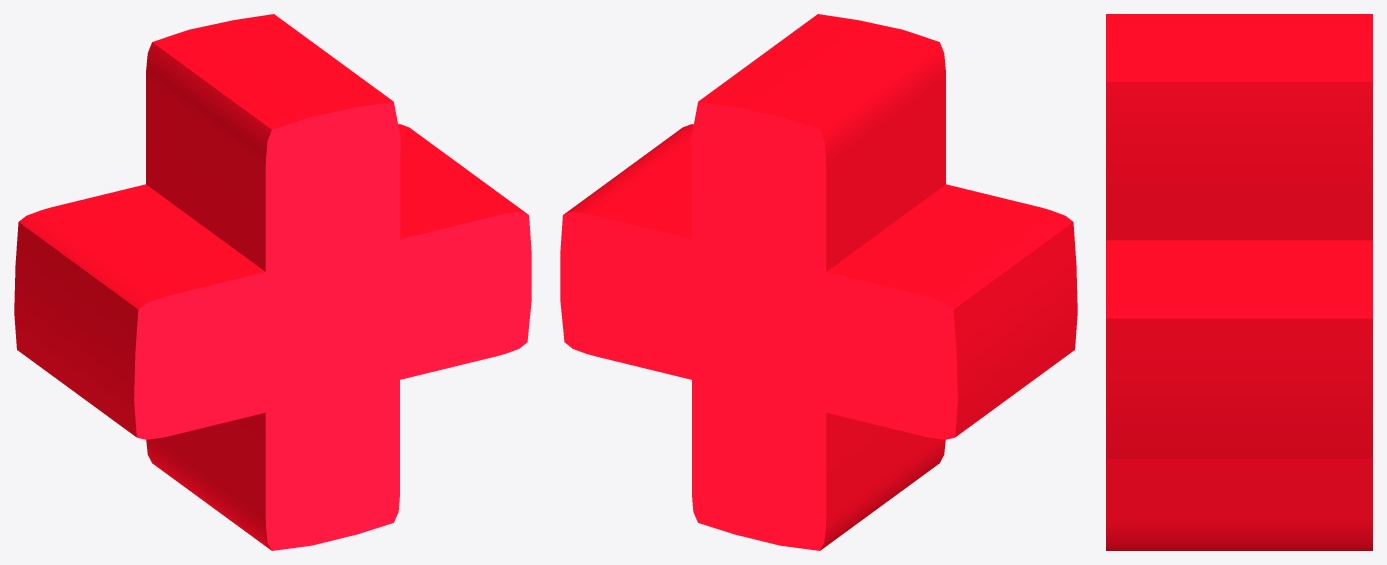
File: ba8648f6-47fd-4925-addd-78d3ddd67ba8.glb
3 renders of one model, left to right at view 1: azimuth 30°, elevation 25°; view 2: azimuth 150°, elevation 25°; view 3: azimuth 270°, elevation 25°, orthographic. The views are drawn at different scales.
Parts seen in each view (by area): view 1: +_Zyzol_Red; view 2: +_Zyzol_Red; view 3: +_Zyzol_Red.
Part boxes in pixels (x1,y1,x2,y2): +_Zyzol_Red: (14,14,531,550); +_Zyzol_Red: (560,14,1077,550); +_Zyzol_Red: (1106,14,1372,550).
Size of what is drawn, in the model's own units: 0.0862 by 0.0888 by 0.045.
Materials: 2 (2 with a texture image).
